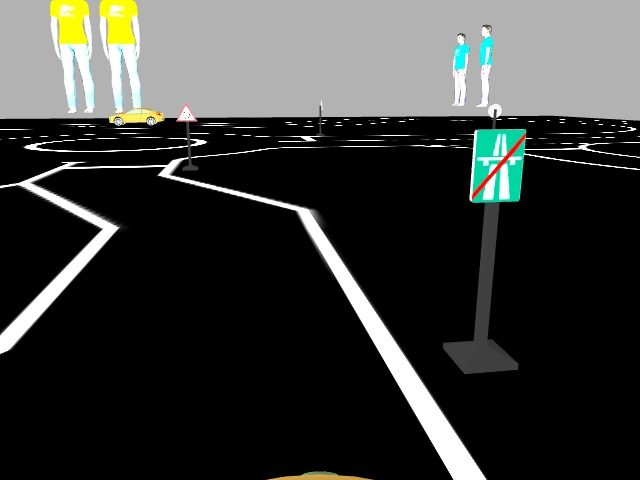HighwayExit: (471, 127, 521, 200)
